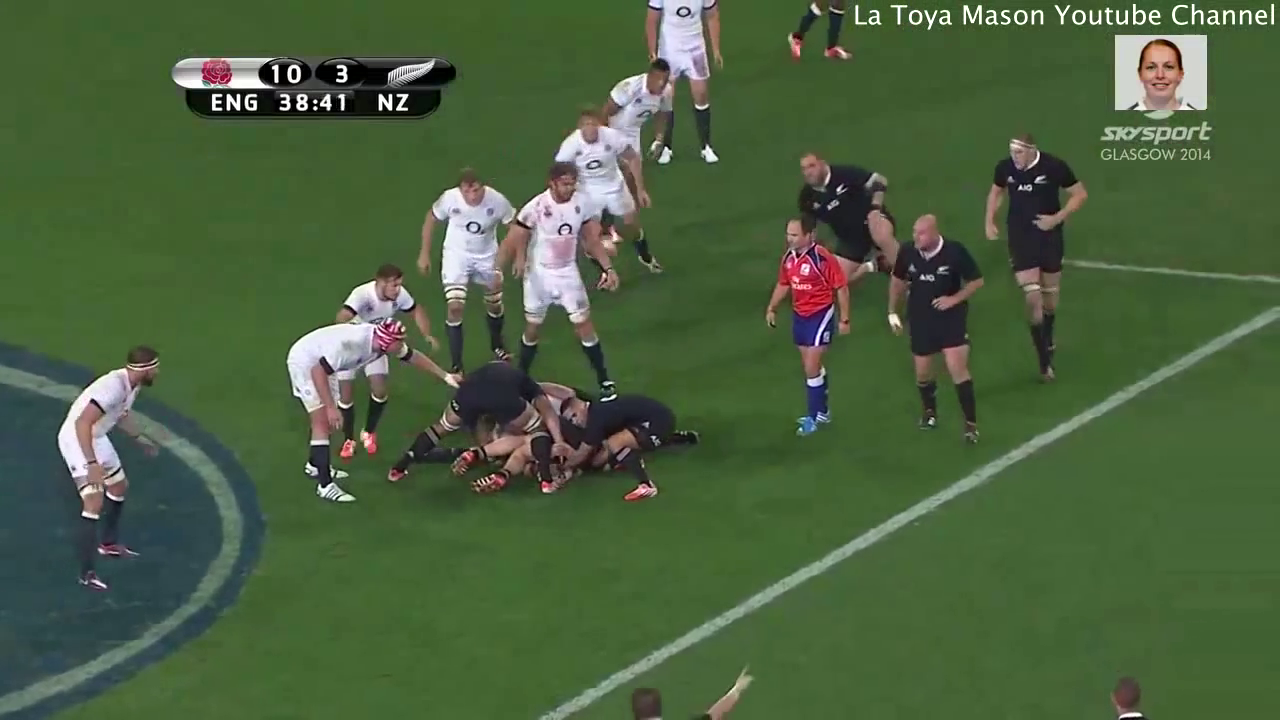player: (51, 339, 173, 598), (874, 210, 1002, 451), (974, 129, 1087, 385), (266, 318, 411, 516), (403, 346, 561, 502), (507, 167, 610, 387), (761, 209, 855, 444), (416, 164, 527, 363), (544, 102, 650, 288), (637, 1, 726, 164), (562, 385, 683, 497), (786, 145, 883, 235), (601, 53, 685, 151), (328, 263, 427, 320)
ruck: (355, 363, 717, 503)
